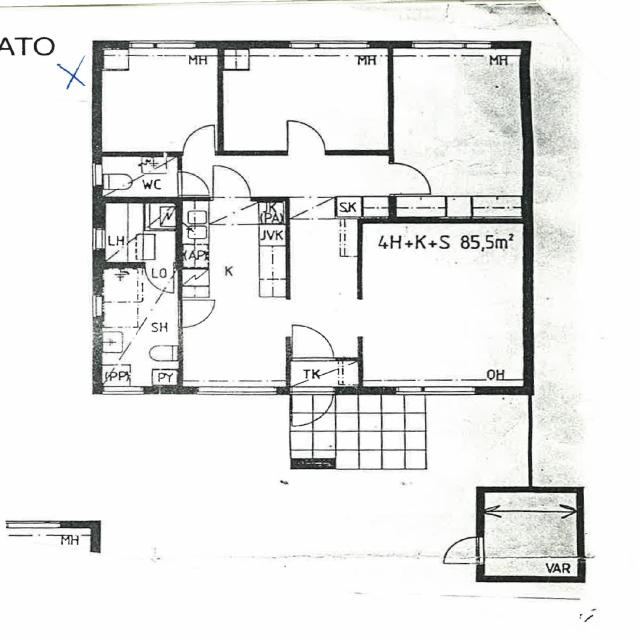door: (292, 386, 333, 428), (292, 323, 334, 360), (287, 119, 325, 156), (212, 165, 249, 201), (388, 164, 431, 194), (443, 536, 484, 563), (183, 125, 215, 156), (176, 300, 213, 326), (145, 262, 173, 290), (178, 172, 210, 195)
